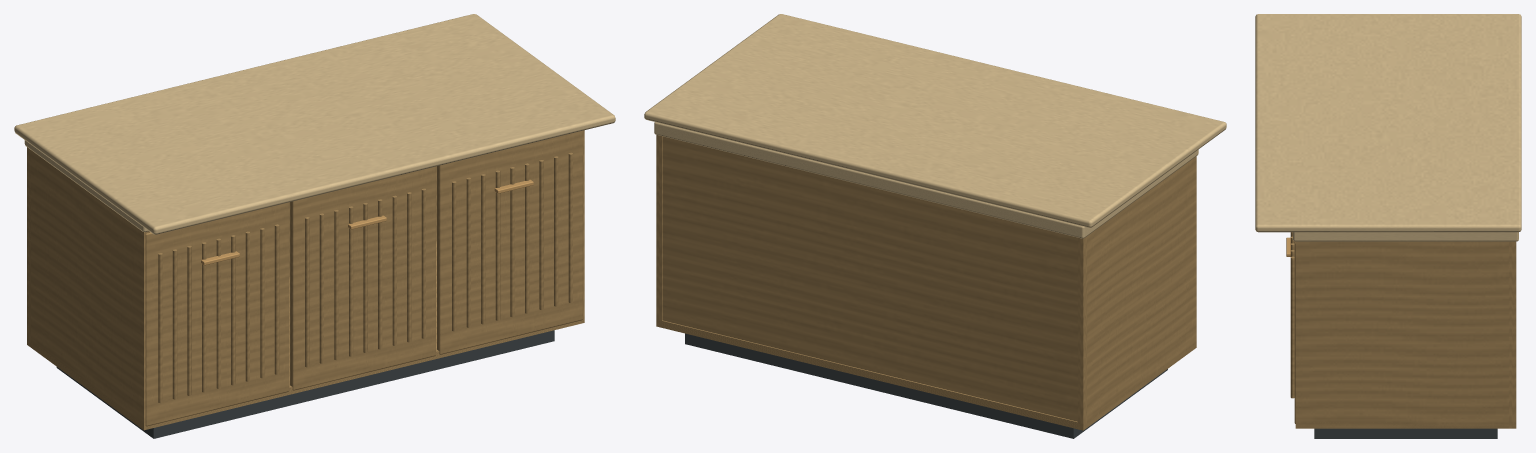
The model's file is kitchen-island-800c0a79b6e6.glb.
3 views of the same model, side by side, from view 1: azimuth 30°, elevation 25°; view 2: azimuth 150°, elevation 25°; view 3: azimuth 270°, elevation 25° (orthographic). The views are drawn at different scales.
Visible parts, largest first — view 1: surface_bamboo, surface_plaster, surface_graphite, surface_brass; view 2: surface_bamboo, surface_plaster, surface_graphite; view 3: surface_plaster, surface_bamboo, surface_graphite.
Part boxes in pixels (left/top/right/bottom): surface_bamboo: left=27, top=130, right=584, bottom=430; surface_plaster: left=14, top=14, right=615, bottom=234; surface_graphite: left=56, top=330, right=554, bottom=438; surface_brass: left=201, top=179, right=533, bottom=265; surface_bamboo: left=656, top=135, right=1196, bottom=430; surface_plaster: left=644, top=14, right=1226, bottom=238; surface_graphite: left=685, top=333, right=1167, bottom=438; surface_plaster: left=1255, top=14, right=1521, bottom=241; surface_bamboo: left=1290, top=232, right=1516, bottom=428; surface_graphite: left=1314, top=428, right=1497, bottom=438.
Bounding box in the file's own units: 1.87 × 0.932 × 0.99.
4 materials, 2 textured.
